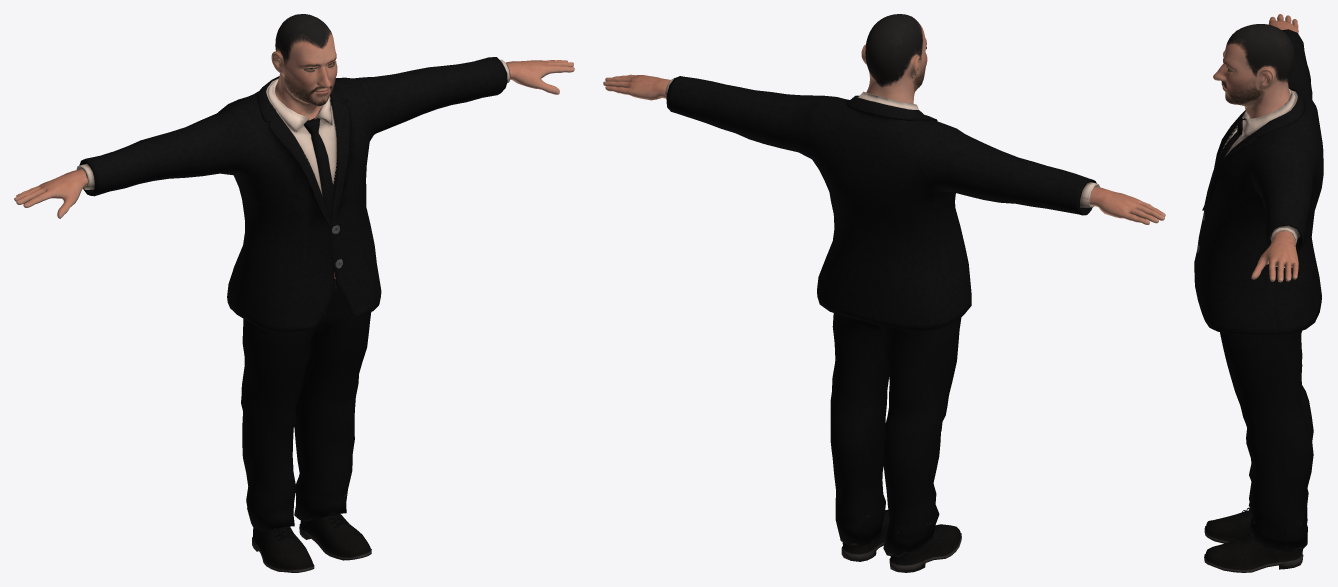
The model's file is body.obj.
The picture shows the model from 3 angles, left to right: view 1: azimuth 30°, elevation 25°; view 2: azimuth 150°, elevation 25°; view 3: azimuth 270°, elevation 25°; orthographic projection.
Parts seen in each view (by area): view 1: Tops, Bottoms, Body, Shoes; view 2: Tops, Bottoms, Body, Shoes; view 3: Tops, Bottoms, Body, Shoes.
Boxes of the visible parts, bbox=[...] form: Tops: bbox=[76, 57, 510, 332]; Bottoms: bbox=[241, 279, 371, 531]; Body: bbox=[14, 14, 574, 278]; Shoes: bbox=[252, 513, 371, 572]; Tops: bbox=[665, 76, 1099, 330]; Bottoms: bbox=[830, 313, 961, 557]; Body: bbox=[603, 14, 1165, 224]; Shoes: bbox=[841, 509, 961, 572]; Tops: bbox=[1194, 29, 1323, 335]; Bottoms: bbox=[1220, 331, 1313, 552]; Body: bbox=[1213, 14, 1298, 282]; Shoes: bbox=[1204, 507, 1303, 572].
Bounding box in the file's own units: 191 × 174 × 38.99.
Materials: 4 (4 with a texture image).
